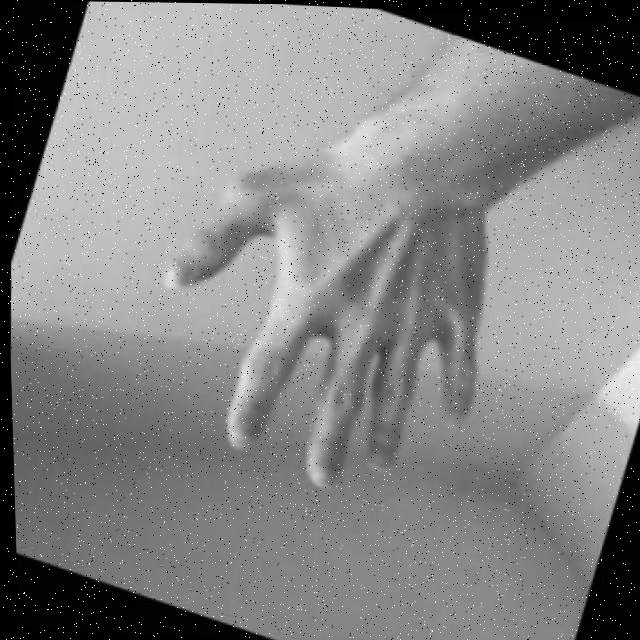hand: (146, 147, 492, 494)
